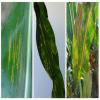Corn leaf blight: (2, 3, 32, 99), (34, 2, 64, 97), (72, 1, 98, 85)
